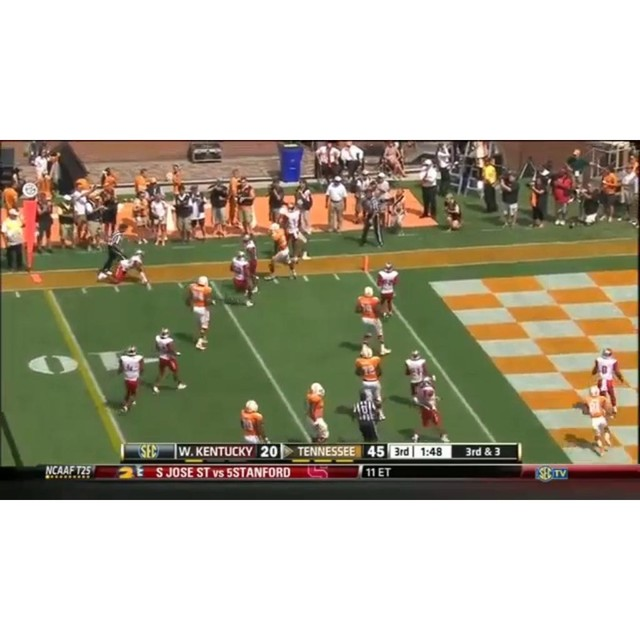american-football-player: (573, 384, 617, 456), (410, 373, 449, 442), (354, 285, 390, 355), (183, 275, 216, 350), (153, 326, 188, 394), (353, 344, 386, 415), (591, 348, 625, 414), (115, 346, 145, 413), (110, 249, 152, 292), (228, 250, 255, 307), (353, 389, 382, 442), (305, 382, 330, 443), (375, 261, 400, 319), (240, 400, 267, 442), (241, 234, 260, 292)
